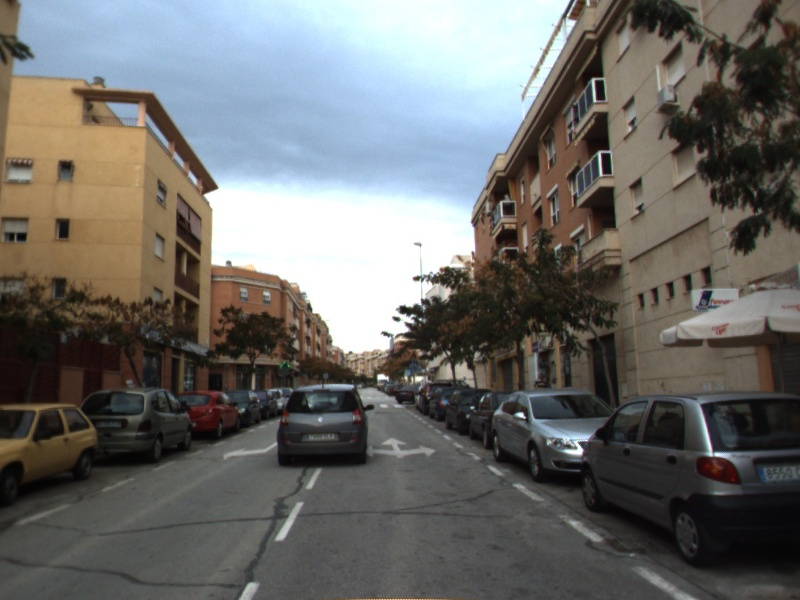STRAIGHT_LEFT_RIGHT: (365, 435, 439, 460)
